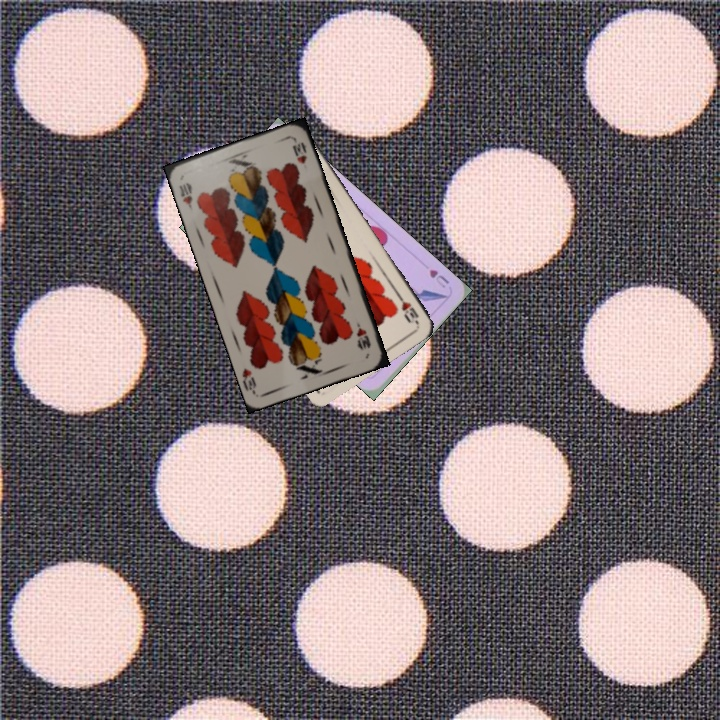H10: (393, 290, 421, 326), (175, 178, 195, 213), (353, 318, 374, 351)
HU: (425, 265, 452, 291)
